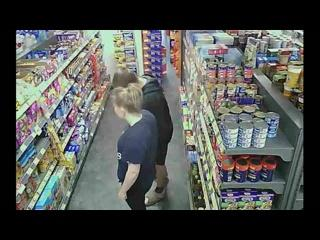Normal: (112, 71, 174, 206), (110, 85, 159, 210)
